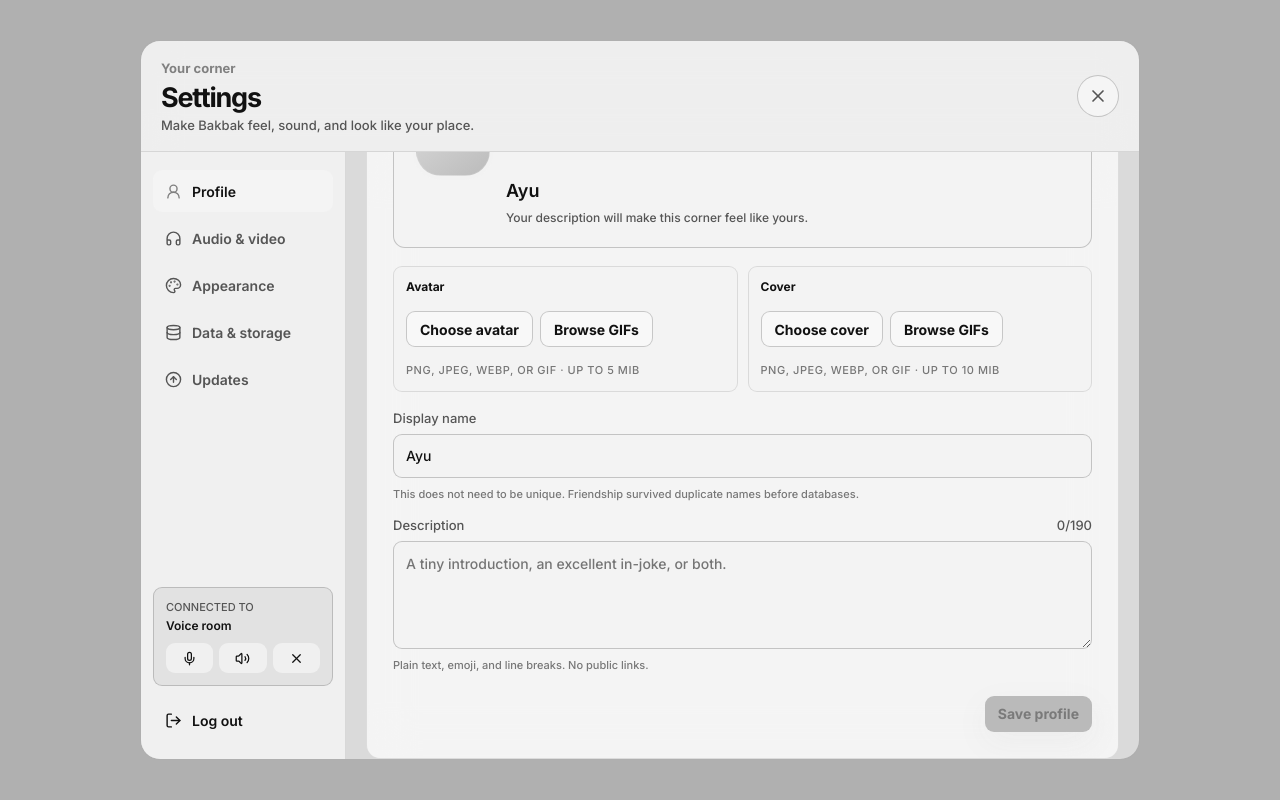
Test case: SettingsPage › keeps the display-name field focused across parent rerenders
The width and height of the screenshot is (1280, 800).
(page scrolled)
In the field labelled "Display name": (742, 456) [393,434,1092,478], type " keeps typing"
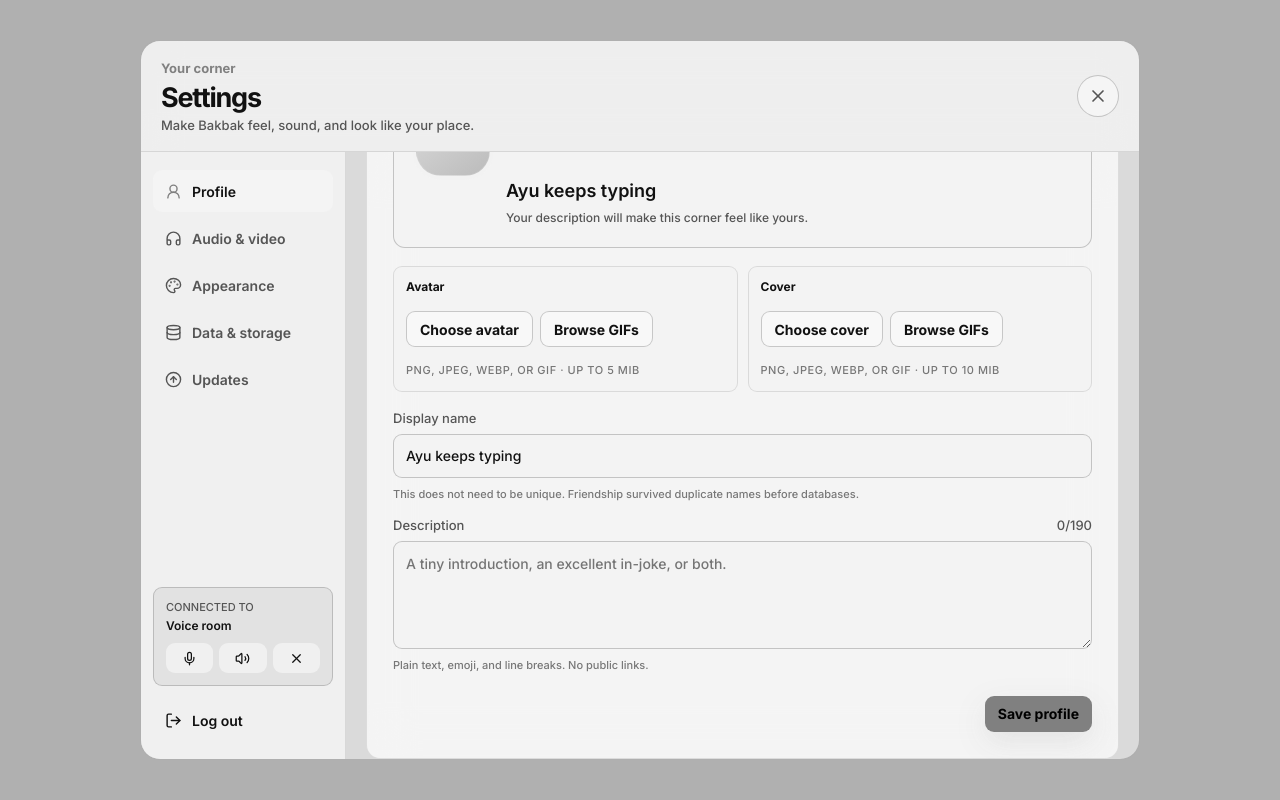
Expected: the field labelled "Display name" holds "Ayu keeps typing", [393,434,1092,478]
